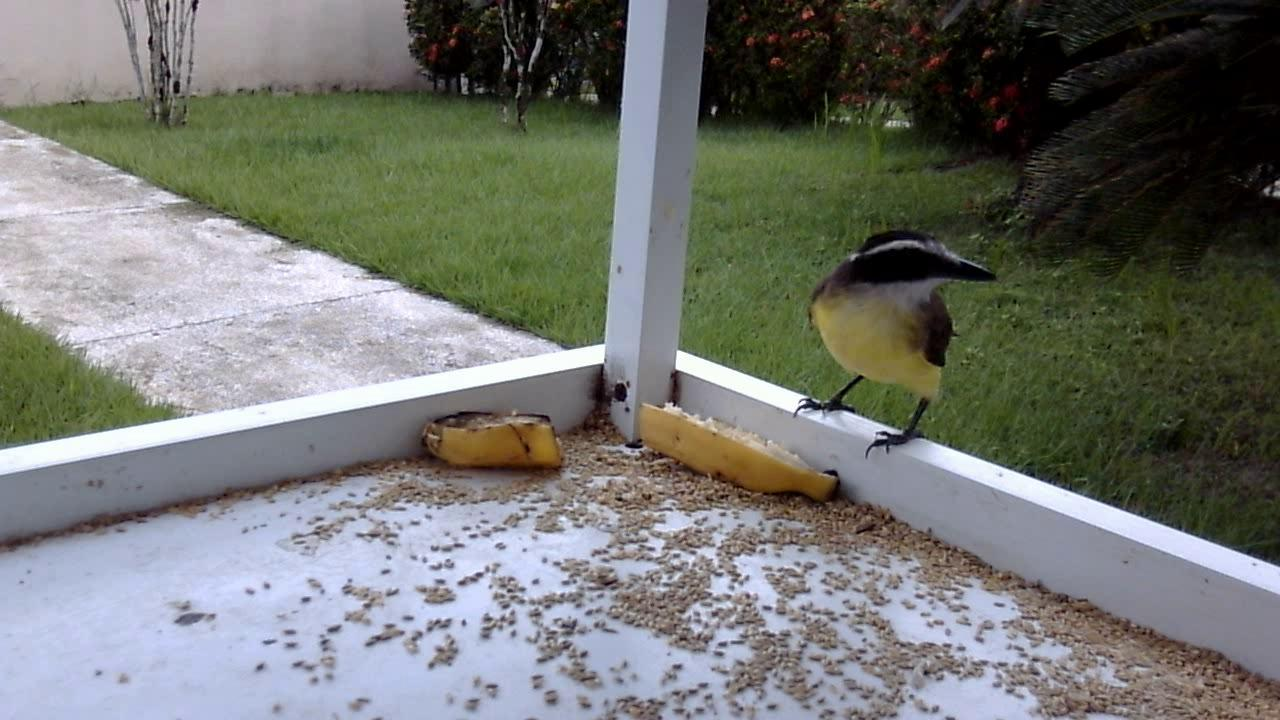bem_te_vi: (778, 224, 1004, 478)
